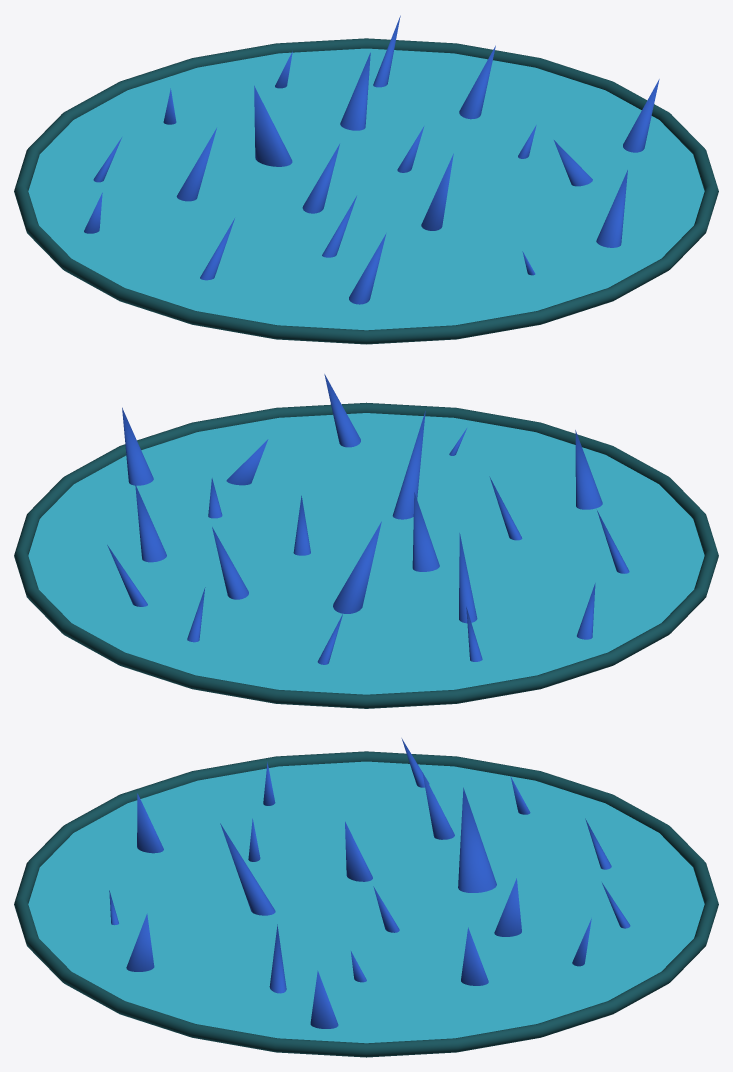
File: 大招刺圈6仙人掌.FBX
3 renders of one model, top to bottom at view 1: azimuth 30°, elevation 25°; view 2: azimuth 150°, elevation 25°; view 3: azimuth 270°, elevation 25°, orthographic.
Parts seen in each view (by area): view 1: Circle001, Torus001, Cylinder013, Cylinder023, Cylinder020, Cylinder011, Cylinder021, Cylinder016, Cylinder019, Cylinder022, Cylinder024, Cylinder007 (+1 smaller); view 2: Circle001, Torus001, Cylinder013, Cylinder016, Cylinder024, Cylinder022, Cylinder011, Cylinder021, Cylinder020, Cylinder023, Cylinder019, Cylinder007 (+2 smaller); view 3: Circle001, Torus001, Cylinder013, Cylinder016, Cylinder020, Cylinder021, Cylinder011, Cylinder023, Cylinder022, Cylinder024, Cylinder019, Cylinder007.
Boxes of the visible parts, x1=… form: Circle001: x1=28, y1=48, x2=704, y2=330; Torus001: x1=14, y1=38, x2=718, y2=344; Cylinder013: x1=254, y1=85, x2=292, y2=166; Cylinder023: x1=340, y1=52, x2=370, y2=130; Cylinder020: x1=596, y1=170, x2=627, y2=247; Cylinder011: x1=459, y1=45, x2=495, y2=119; Cylinder021: x1=623, y1=79, x2=659, y2=152; Cylinder016: x1=421, y1=153, x2=453, y2=230; Cylinder019: x1=176, y1=128, x2=216, y2=201; Cylinder022: x1=349, y1=233, x2=386, y2=304; Cylinder024: x1=302, y1=144, x2=339, y2=213; Cylinder007: x1=554, y1=140, x2=592, y2=186; Circle001: x1=28, y1=413, x2=704, y2=694; Torus001: x1=14, y1=402, x2=718, y2=708; Cylinder013: x1=333, y1=521, x2=381, y2=613; Cylinder016: x1=392, y1=411, x2=425, y2=519; Cylinder024: x1=412, y1=492, x2=439, y2=571; Cylinder022: x1=575, y1=430, x2=602, y2=509; Cylinder011: x1=135, y1=484, x2=166, y2=562; Cylinder021: x1=122, y1=407, x2=153, y2=485; Cylinder020: x1=324, y1=374, x2=360, y2=447; Cylinder023: x1=212, y1=527, x2=248, y2=599; Cylinder019: x1=459, y1=533, x2=477, y2=623; Cylinder007: x1=226, y1=439, x2=268, y2=485; Circle001: x1=28, y1=761, x2=704, y2=1043; Torus001: x1=14, y1=751, x2=718, y2=1057; Cylinder013: x1=458, y1=787, x2=496, y2=892; Cylinder016: x1=220, y1=823, x2=275, y2=915; Cylinder020: x1=126, y1=913, x2=154, y2=971; Cylinder021: x1=310, y1=970, x2=338, y2=1028; Cylinder011: x1=461, y1=927, x2=488, y2=985; Cylinder023: x1=494, y1=878, x2=521, y2=936; Cylinder022: x1=137, y1=793, x2=163, y2=853; Cylinder024: x1=345, y1=821, x2=372, y2=881; Cylinder019: x1=422, y1=772, x2=454, y2=839; Cylinder007: x1=269, y1=924, x2=286, y2=993.
Size of the model in its own units: 101 by 16.61 by 101.
